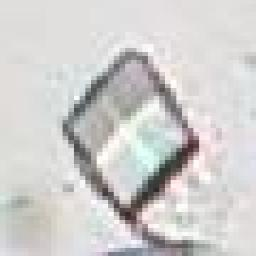crystals: (59, 48, 201, 227)
